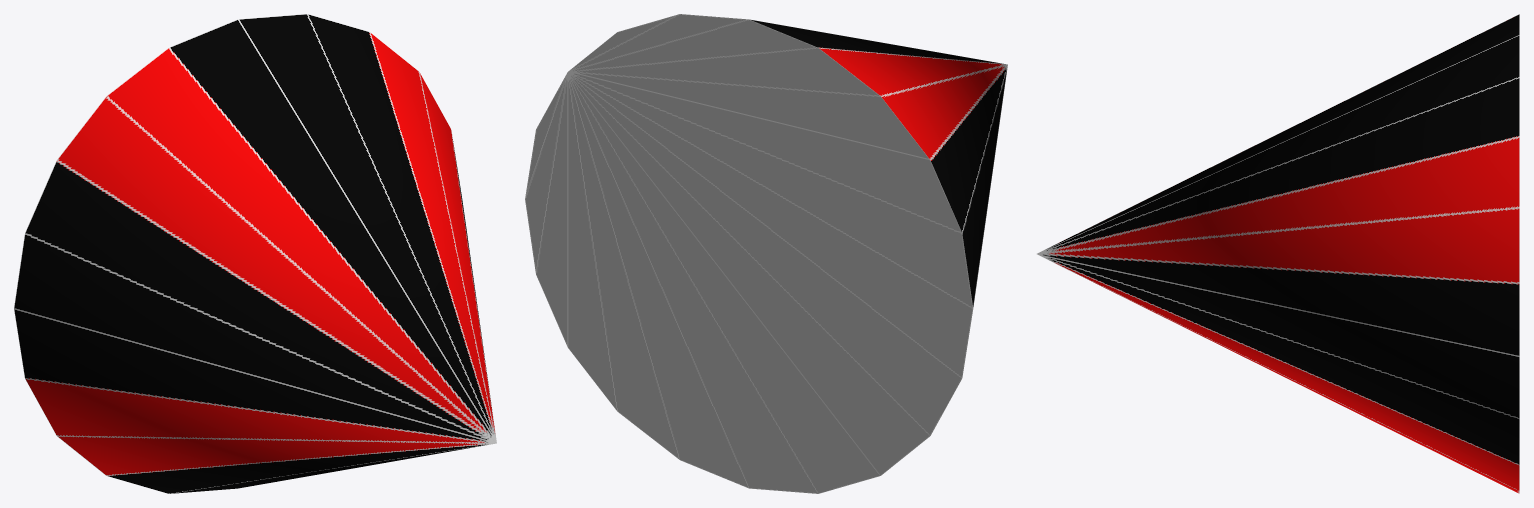
File: cone_tower.fbx
3 views of the same model, side by side, from view 1: azimuth 30°, elevation 25°; view 2: azimuth 150°, elevation 25°; view 3: azimuth 270°, elevation 25° (orthographic). The views are drawn at different scales.
Parts seen in each view (by area): view 1: pCone1; view 2: pCone1; view 3: pCone1.
Part boxes in pixels (x1,y1,x2,y2): pCone1: (14, 14, 496, 493); pCone1: (525, 14, 1007, 493); pCone1: (1037, 14, 1519, 493).
Bounding box in the file's own units: 2 × 2 × 2.
Materials: 1 (1 with a texture image).
